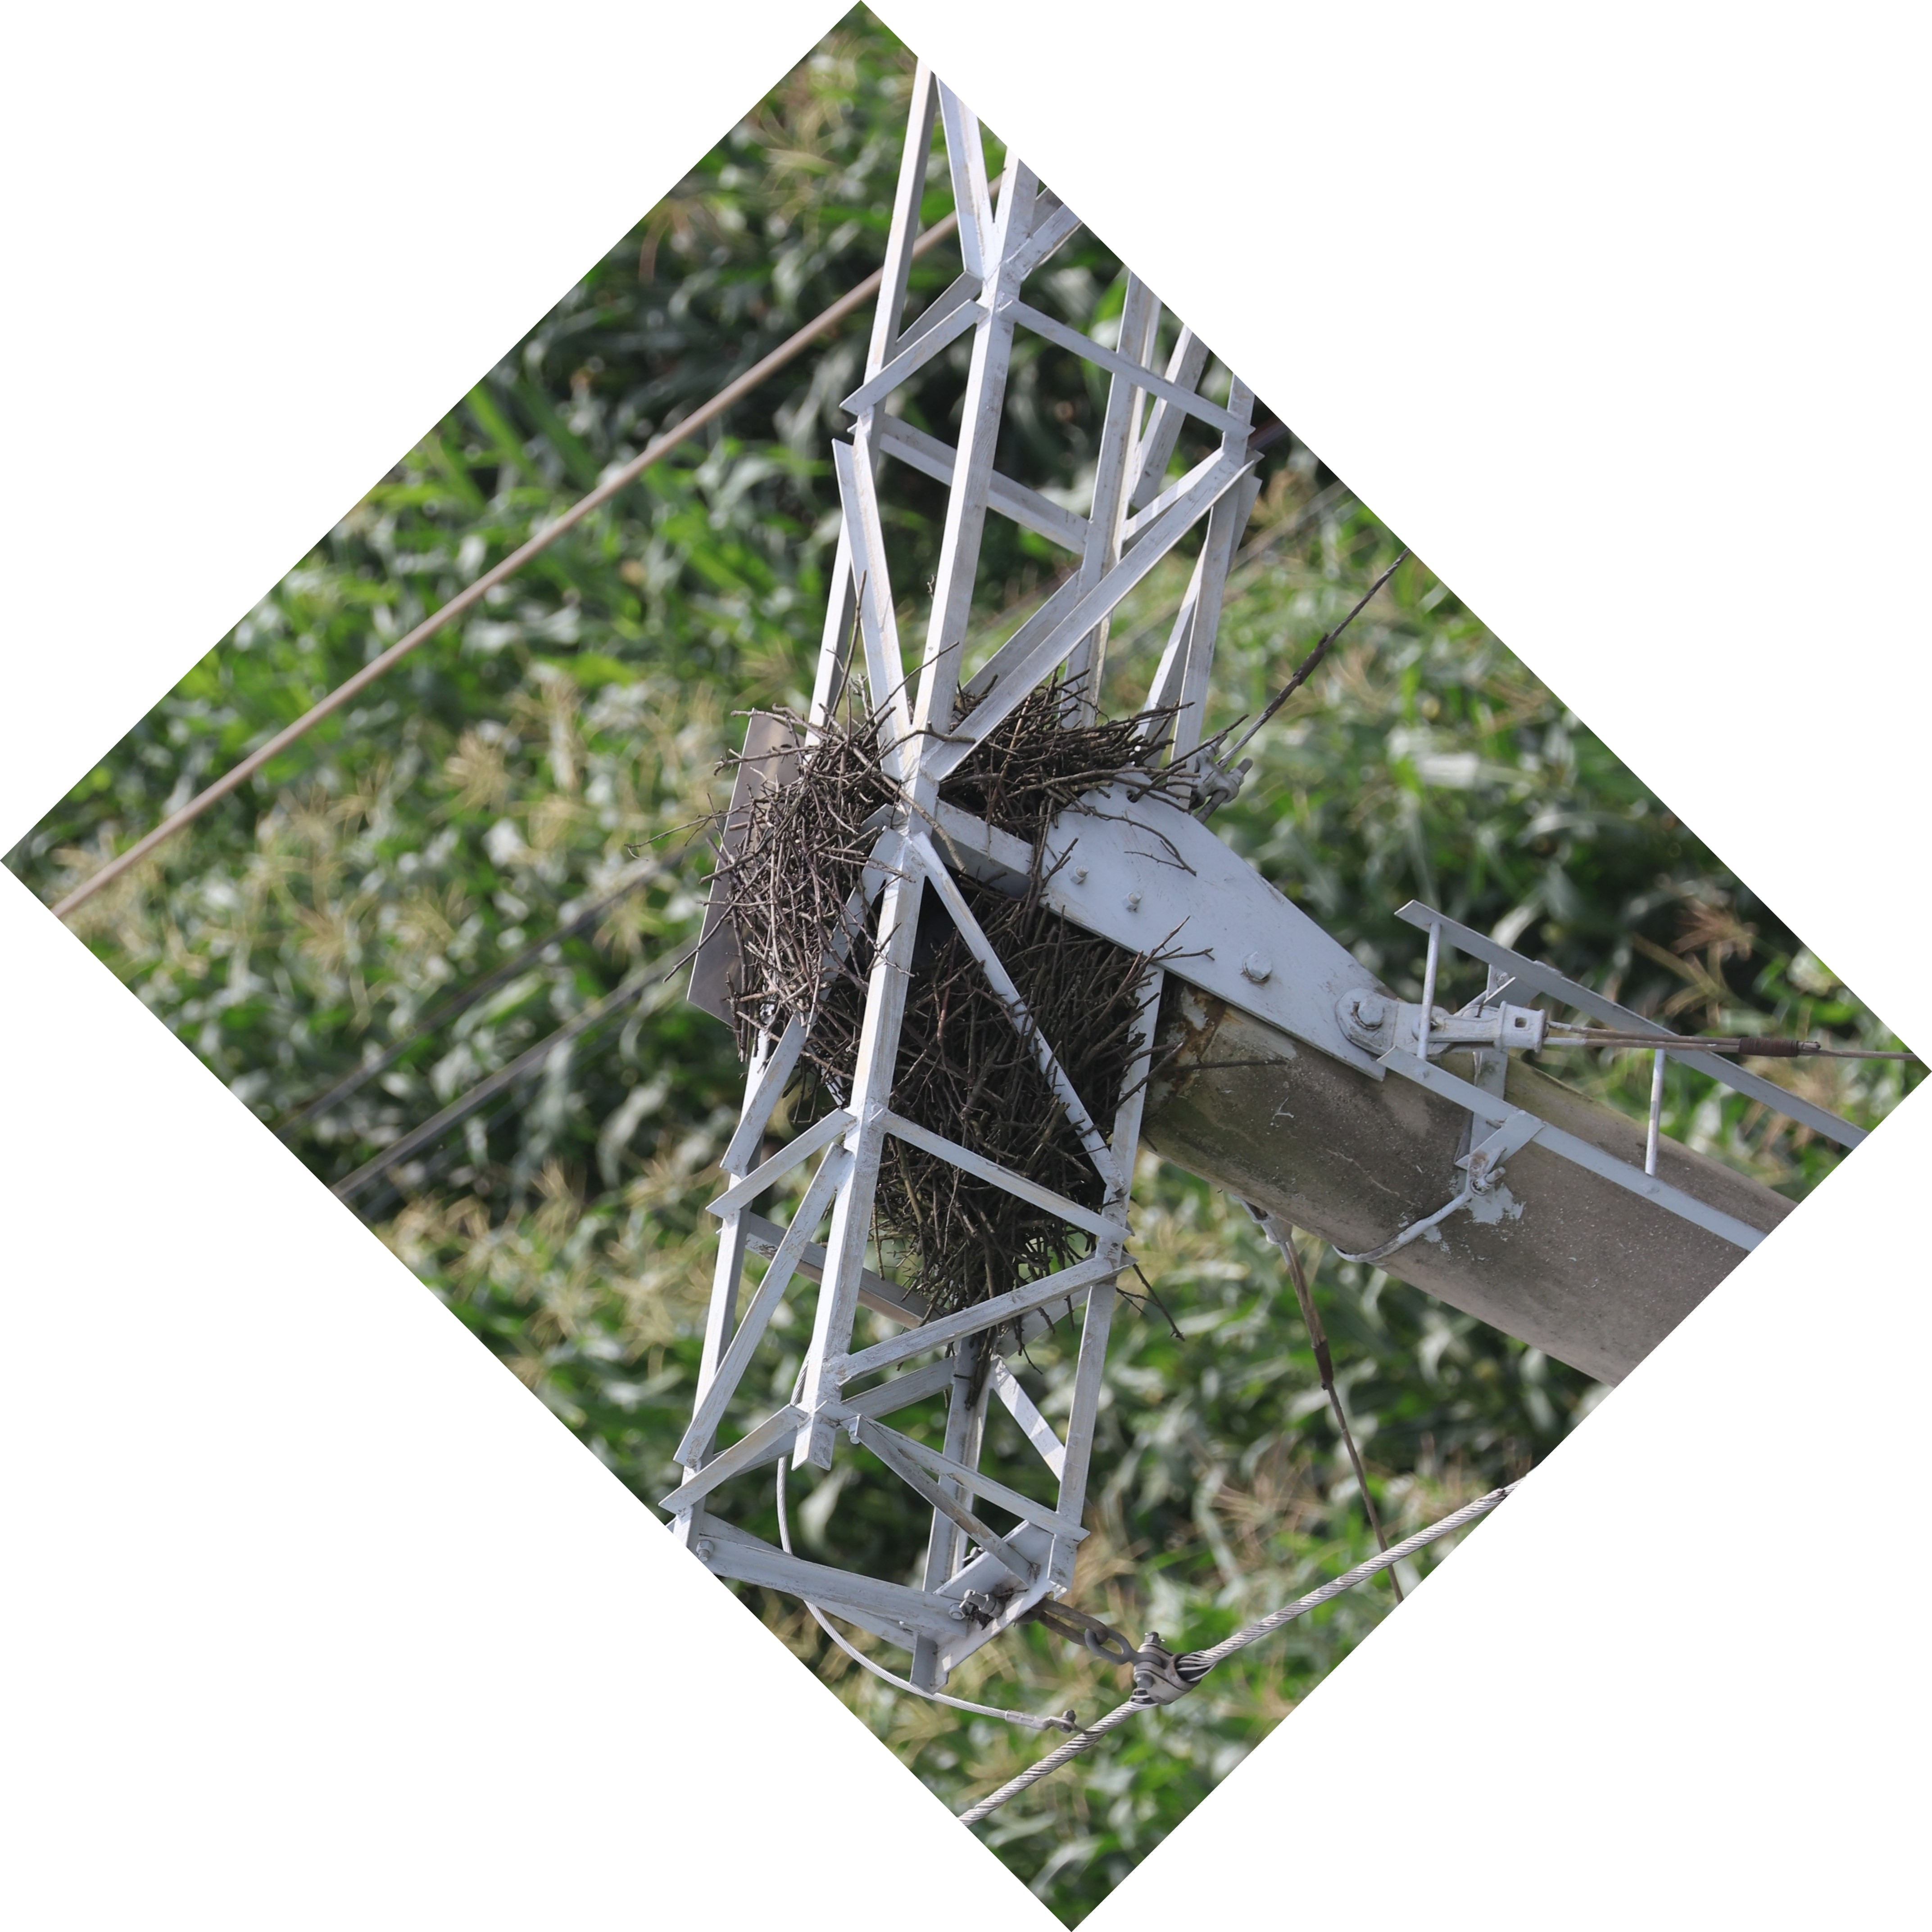niaowo: (681, 676, 1217, 1272)
